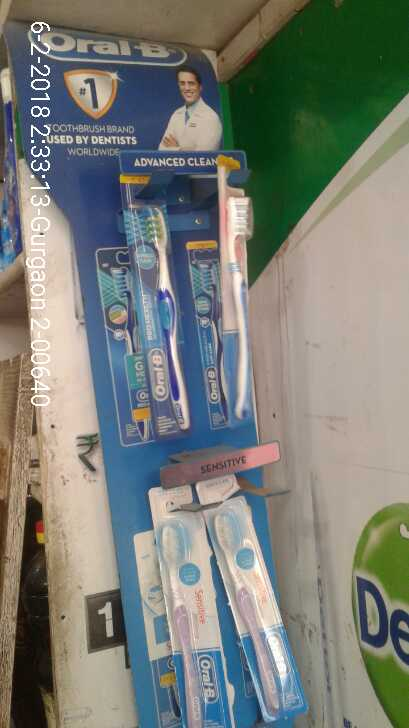oralb: (216, 507, 309, 728), (131, 191, 189, 419), (156, 506, 210, 728), (208, 188, 255, 418)
